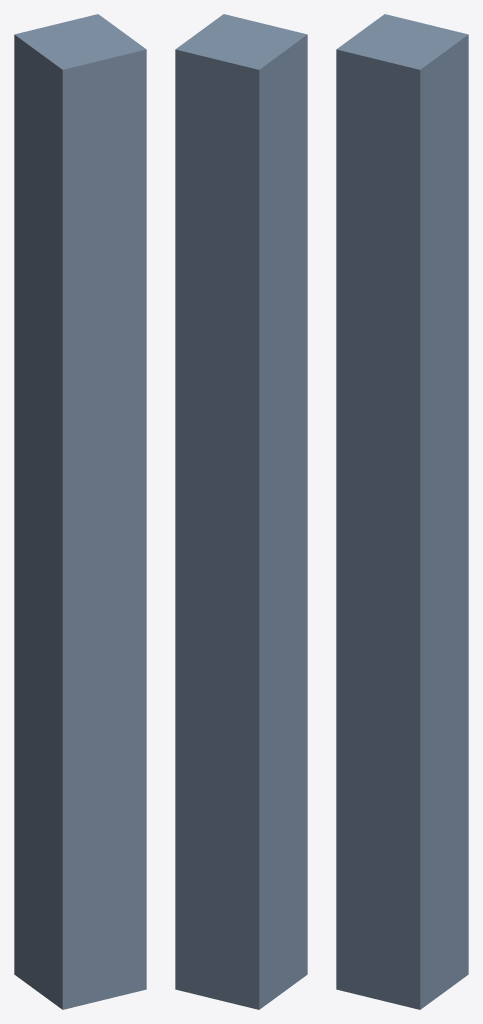
Rendered from Pillar_1B.fbx.
3 views of the same model, side by side, from view 1: azimuth 30°, elevation 25°; view 2: azimuth 150°, elevation 25°; view 3: azimuth 330°, elevation 25° (orthographic).
Parts seen in each view (by area): view 1: pCube89; view 2: pCube89; view 3: pCube89.
Boxes of the visible parts, x1,y1,x2,y2 form: pCube89: (14, 14, 146, 1009); pCube89: (175, 14, 307, 1009); pCube89: (336, 14, 468, 1009).
Size of the model in its own units: 0.75 by 8.03 by 0.75.
1 material, 1 textured.
